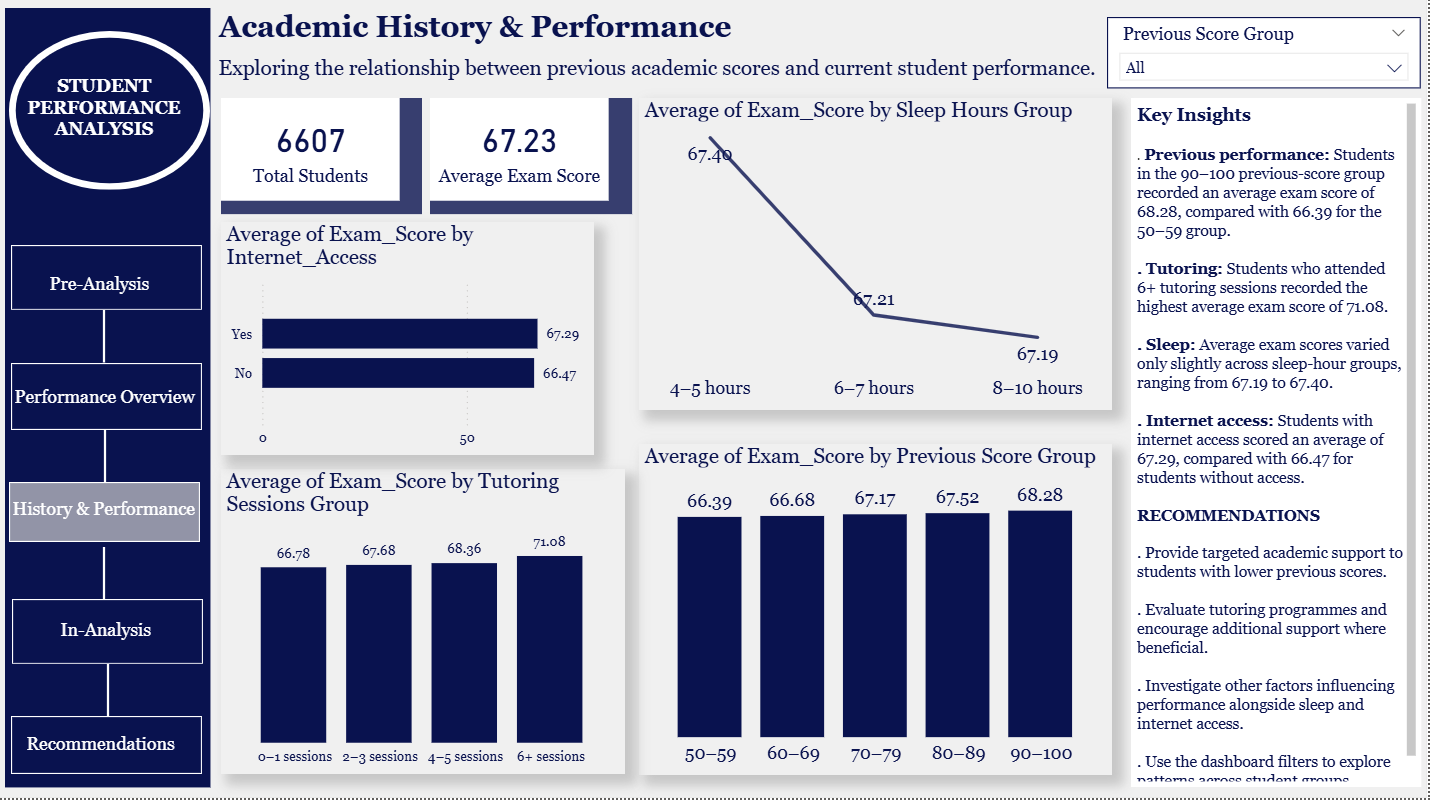

Layout of this report page (visuals, bound fields, positions):
{"tool":"powerbi","page":{"name":"Academic History & Performance","canvas":[1280,720],"ordinal":2},"visuals":[{"type":"textbox","box":[0,0,1280,719.8],"z":0},{"type":"clusteredColumnChart","fields":{"Category":["StudentPerformanceFactors_Cleaned.Previous Score Group"],"Y":["Avg(StudentPerformanceFactors_Cleaned.Exam_Score)"]},"box":[574,403,424.5,295.5],"z":1000},{"type":"textbox","box":[6.3,12.5,183.6,697.6],"z":2000},{"type":"textbox","box":[192.5,9.9,478.2,40.3],"z":3000},{"type":"textbox","box":[192.5,50.1,800.6,34.9],"z":4000},{"type":"slicer","fields":{"Values":["StudentPerformanceFactors_Cleaned.Previous Score Group"]},"box":[993.1,20.6,281.2,64.5],"z":5000},{"type":"lineChart","fields":{"Category":["StudentPerformanceFactors_Cleaned.Sleep Hours Group"],"Y":["Avg(StudentPerformanceFactors_Cleaned.Exam_Score)"]},"box":[574,93.1,424.5,278.5],"z":6000},{"type":"textbox","box":[199.7,93.1,180,103.9],"z":7000},{"type":"card","fields":{"Values":["StudentPerformanceFactors_Cleaned.Total Students"]},"box":[199.7,93.1,160.3,92.2],"z":8000},{"type":"textbox","box":[386.9,93.1,180.9,103.9],"z":9000},{"type":"card","fields":{"Values":["StudentPerformanceFactors_Cleaned.Average Exam Score"]},"box":[386.9,93.1,160.3,92.2],"z":10000},{"type":"clusteredColumnChart","fields":{"Category":["StudentPerformanceFactors_Cleaned.Tutoring Sessions Group"],"Y":["Avg(StudentPerformanceFactors_Cleaned.Exam_Score)"]},"box":[199.7,425.4,361.8,273.1],"z":11000},{"type":"clusteredBarChart","fields":{"Category":["StudentPerformanceFactors_Cleaned.Internet_Access"],"Y":["Avg(StudentPerformanceFactors_Cleaned.Exam_Score)"]},"box":[199.7,204.2,334,208.7],"z":12000},{"type":"textbox","box":[1014.6,93.1,259.7,617],"z":13000},{"type":"shape","box":[9.9,33.1,180,142.4],"z":14000},{"type":"textbox","box":[13.4,68.1,163,81.5],"z":15000},{"type":"shape","box":[11.6,224.8,171,58.2],"z":16000},{"type":"textbox","box":[41.2,245.4,112.8,31.3],"z":17000},{"type":"shape","box":[11.6,330.4,171,60],"z":18000},{"type":"textbox","box":[9.9,346.6,180,29.6],"z":19000},{"type":"shape","box":[9.9,437,171,53.7],"z":20000},{"type":"textbox","box":[8.1,446.9,180,33.1],"z":21000},{"type":"shape","box":[12.5,541.8,171,58.2],"z":22000},{"type":"textbox","box":[51,555.2,92.2,29.6],"z":23000},{"type":"shape","box":[11.6,646.6,171,51.9],"z":24000},{"type":"textbox","box":[20.6,657.3,149.6,29.6],"z":25000},{"type":"shape","box":[86,283,17.9,47.5],"z":26000},{"type":"shape","box":[86.9,390.4,17.9,46.6],"z":27000},{"type":"shape","box":[86,495.2,17.9,46.6],"z":28000},{"type":"shape","box":[89.6,600,17.9,46.6],"z":29000}]}

Visuals, with their boxes in screenshot pixels (x1, y1, x2, y2), scaled from the page's 1280x720 canvas onto the 1430x803 screenshot:
textbox: rect(0, 0, 1429, 802)
clusteredColumnChart - StudentPerformanceFactors_Cleaned.Previous Score Group x Avg(StudentPerformanceFactors_Cleaned.Exam_Score): rect(641, 449, 1116, 779)
textbox: rect(7, 14, 212, 792)
textbox: rect(215, 11, 749, 56)
textbox: rect(215, 56, 1109, 95)
slicer - StudentPerformanceFactors_Cleaned.Previous Score Group: rect(1109, 23, 1424, 95)
lineChart - StudentPerformanceFactors_Cleaned.Sleep Hours Group x Avg(StudentPerformanceFactors_Cleaned.Exam_Score): rect(641, 104, 1116, 414)
textbox: rect(223, 104, 424, 220)
card - StudentPerformanceFactors_Cleaned.Total Students: rect(223, 104, 402, 207)
textbox: rect(432, 104, 634, 220)
card - StudentPerformanceFactors_Cleaned.Average Exam Score: rect(432, 104, 611, 207)
clusteredColumnChart - StudentPerformanceFactors_Cleaned.Tutoring Sessions Group x Avg(StudentPerformanceFactors_Cleaned.Exam_Score): rect(223, 474, 627, 779)
clusteredBarChart - StudentPerformanceFactors_Cleaned.Internet_Access x Avg(StudentPerformanceFactors_Cleaned.Exam_Score): rect(223, 228, 596, 460)
textbox: rect(1133, 104, 1424, 792)
shape: rect(11, 37, 212, 196)
textbox: rect(15, 76, 197, 167)
shape: rect(13, 251, 204, 316)
textbox: rect(46, 274, 172, 309)
shape: rect(13, 368, 204, 435)
textbox: rect(11, 387, 212, 420)
shape: rect(11, 487, 202, 547)
textbox: rect(9, 498, 210, 535)
shape: rect(14, 604, 205, 669)
textbox: rect(57, 619, 160, 652)
shape: rect(13, 721, 204, 779)
textbox: rect(23, 733, 190, 766)
shape: rect(96, 316, 116, 369)
shape: rect(97, 435, 117, 487)
shape: rect(96, 552, 116, 604)
shape: rect(100, 669, 120, 721)
